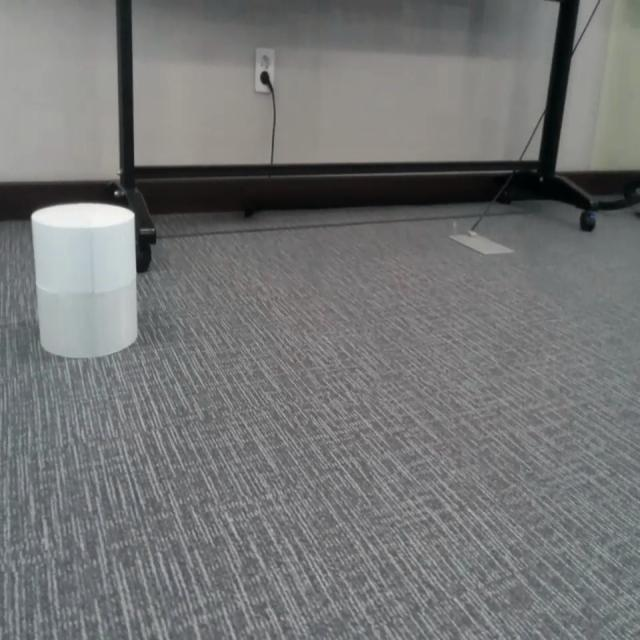cylinder: (31, 200, 139, 360)
